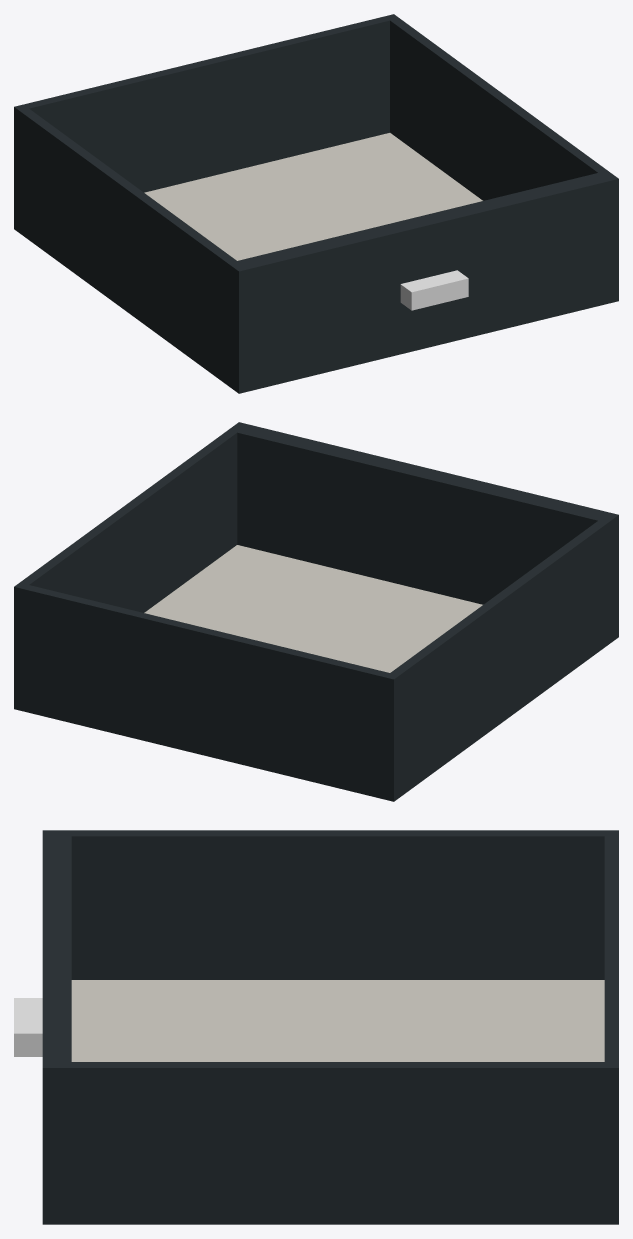
File: case.fbx
The picture shows the model from 3 angles, top to bottom: view 1: azimuth 30°, elevation 25°; view 2: azimuth 150°, elevation 25°; view 3: azimuth 270°, elevation 25°; orthographic projection. The views are drawn at different scales.
Visible parts, largest first — view 1: Cube; view 2: Cube; view 3: Cube.
Part boxes in pixels (x1,y1,x2,y2): Cube: (14,14,618,393); Cube: (14,422,618,801); Cube: (14,830,618,1224).
Size of the model in its own units: 195 by 60 by 210.
